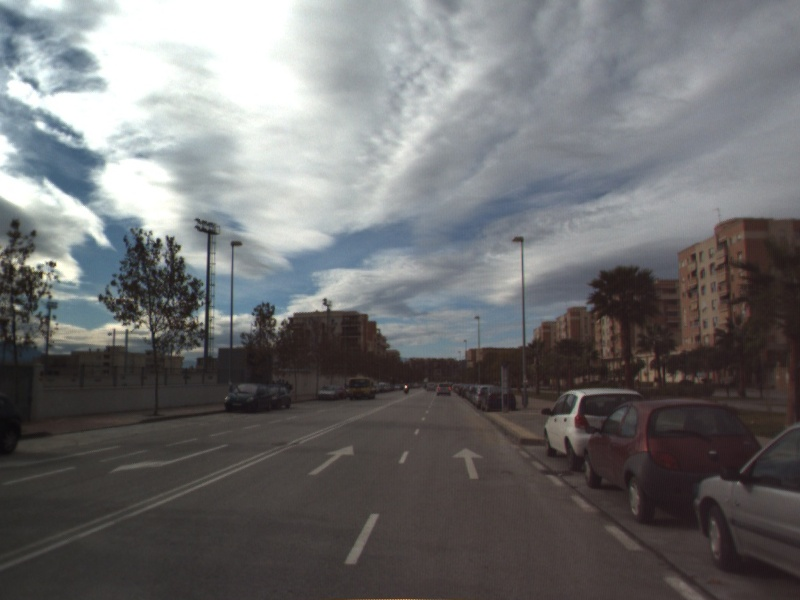STRAIGHT: (306, 443, 356, 477), (450, 446, 486, 481)
